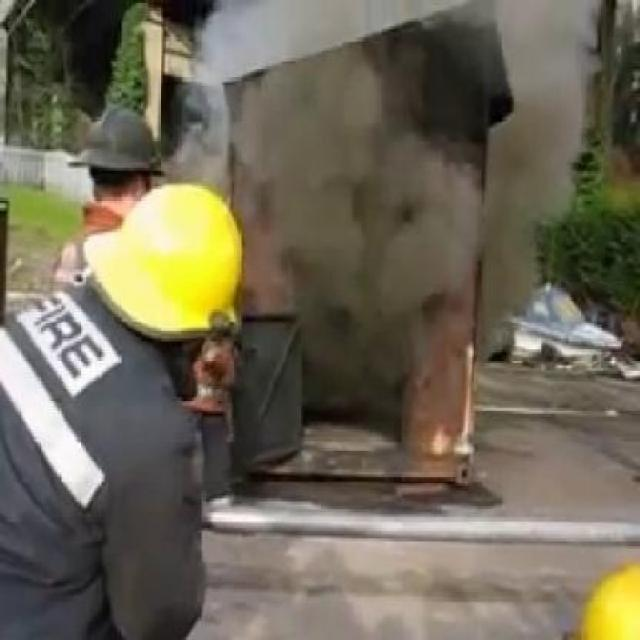smoke: (260, 26, 465, 389)
